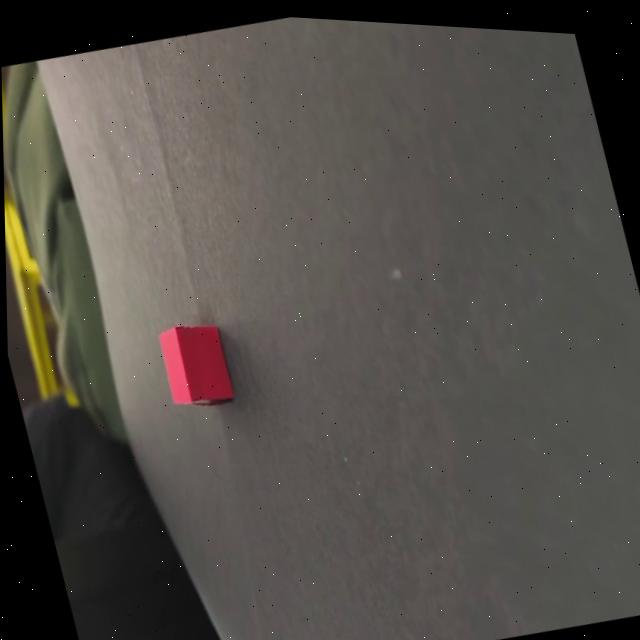red block: (153, 314, 237, 417)
